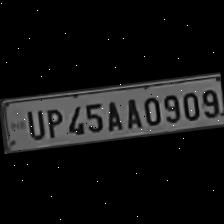0: (138, 90, 162, 127), (177, 86, 200, 121)
4: (62, 101, 85, 136)
5: (80, 98, 104, 134)
9: (158, 88, 181, 124), (197, 84, 220, 119)
A: (100, 95, 124, 131), (119, 94, 141, 130)
P: (41, 104, 64, 139)
U: (22, 106, 45, 140)
